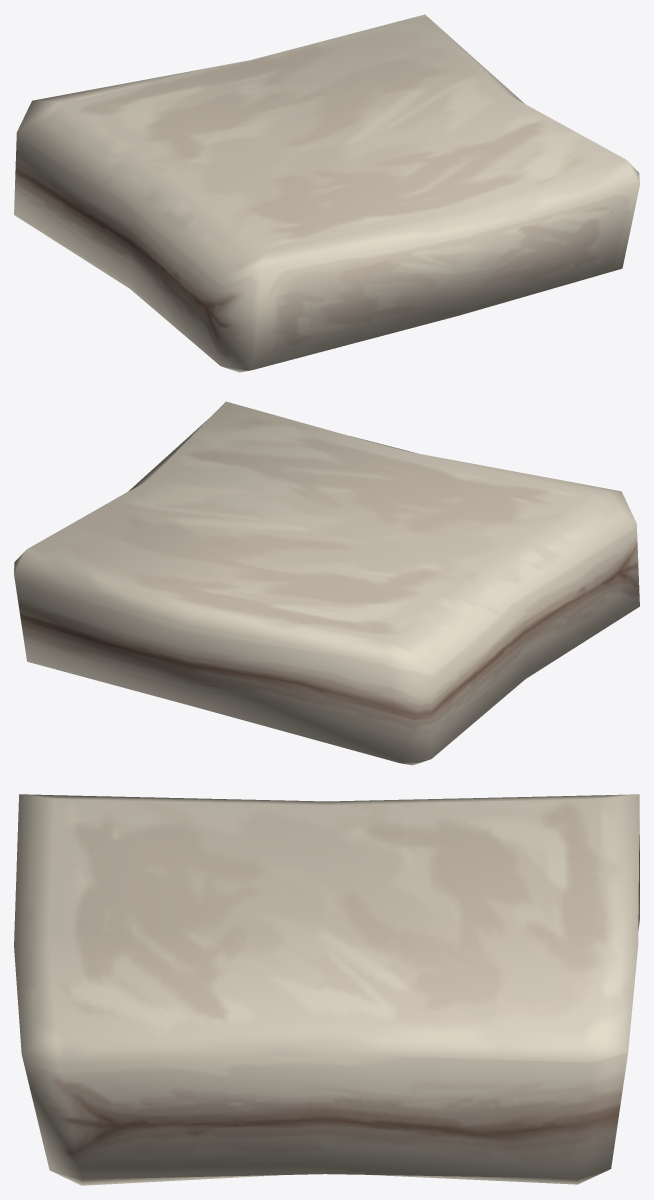
The model's file is SM_PROP_cloth_city_01.fbx.
3 views of the same model, one above another, from view 1: azimuth 30°, elevation 25°; view 2: azimuth 150°, elevation 25°; view 3: azimuth 270°, elevation 25° (orthographic). The views are drawn at different scales.
Parts seen in each view (by area): view 1: SM_PROP_cloth_city_01; view 2: SM_PROP_cloth_city_01; view 3: SM_PROP_cloth_city_01.
Part boxes in pixels (<box>): SM_PROP_cloth_city_01: <box>14,14,639,372</box>; SM_PROP_cloth_city_01: <box>14,401,639,765</box>; SM_PROP_cloth_city_01: <box>14,794,639,1185</box>.
Size of the model in its own units: 30.86 by 8.17 by 29.49.
